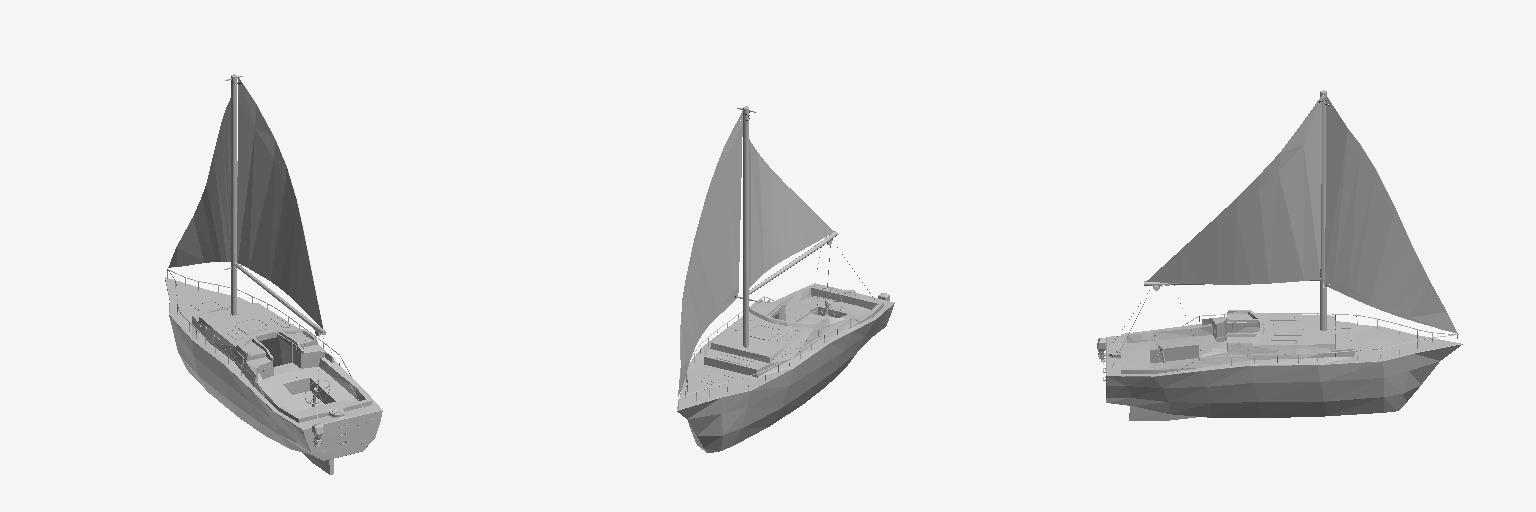
Rendered from MergedFull.obj.
3 renders of one model, left to right at view 1: azimuth 30°, elevation 25°; view 2: azimuth 150°, elevation 25°; view 3: azimuth 270°, elevation 25°, orthographic.
Parts seen in each view (by area): view 1: polySurface1; view 2: polySurface1; view 3: polySurface1.
Part boxes in pixels (x1,y1,x2,y2): polySurface1: (165,74,382,474); polySurface1: (677,106,894,452); polySurface1: (1097,90,1462,420).
Bounding box in the file's own units: 1.89 × 6.42 × 6.48.